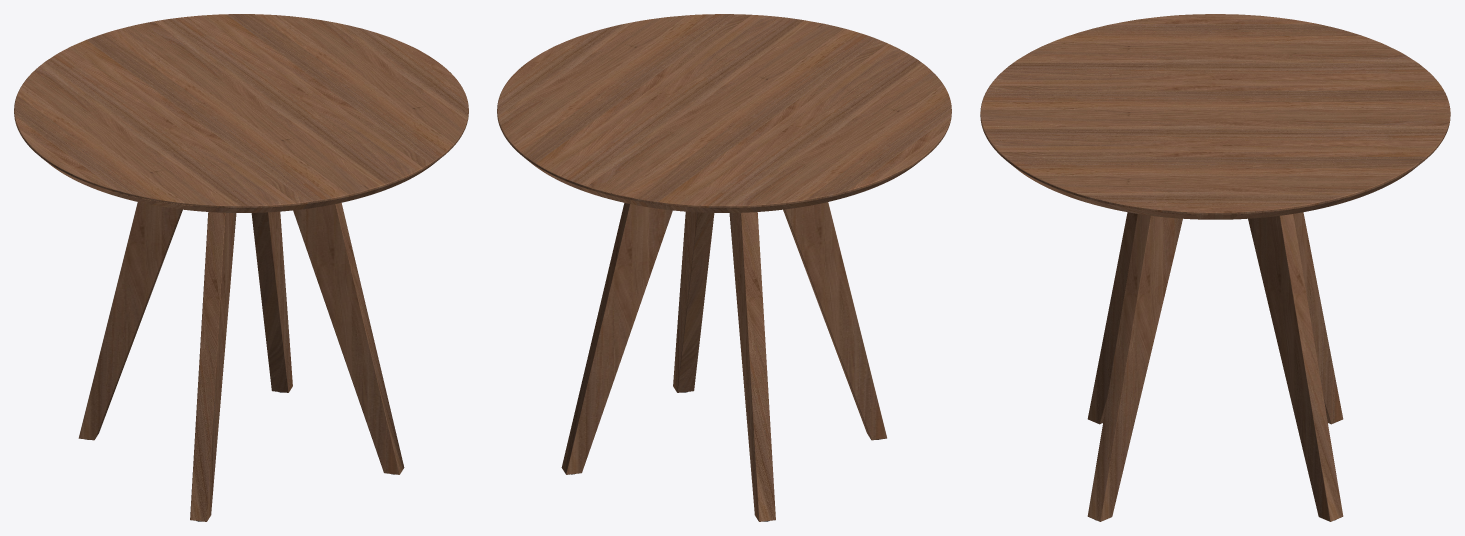
File: table.glb
3 renders of one model, left to right at view 1: azimuth 30°, elevation 25°; view 2: azimuth 150°, elevation 25°; view 3: azimuth 270°, elevation 25°, orthographic. The views are drawn at different scales.
Visible parts, largest first — view 1: ESTRUTURA; view 2: ESTRUTURA; view 3: ESTRUTURA.
Part boxes in pixels (x1,y1,x2,y2): ESTRUTURA: (14,14,468,521); ESTRUTURA: (497,14,951,521); ESTRUTURA: (980,14,1450,521).
Size of the model in its own units: 0.9 by 0.753 by 0.9.
Materials: 4 (1 with a texture image).
